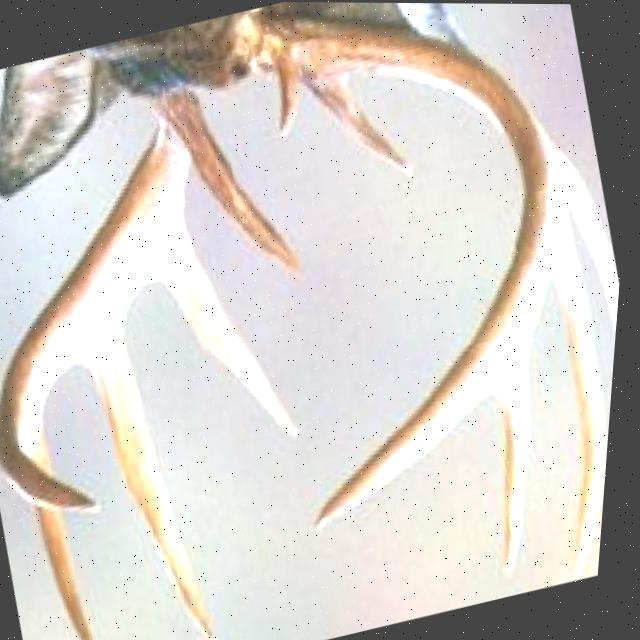L-F: (0, 81, 202, 512)
L-G1: (193, 107, 308, 284)
L-G2: (164, 209, 306, 441)
L-G3: (84, 308, 230, 640)
R-F: (230, 5, 570, 535)
R-G1: (273, 65, 302, 140)
R-G2: (303, 73, 420, 179)
R-G3: (556, 139, 624, 333)
R-G4: (554, 213, 614, 579)
R-G5: (498, 345, 538, 577)
